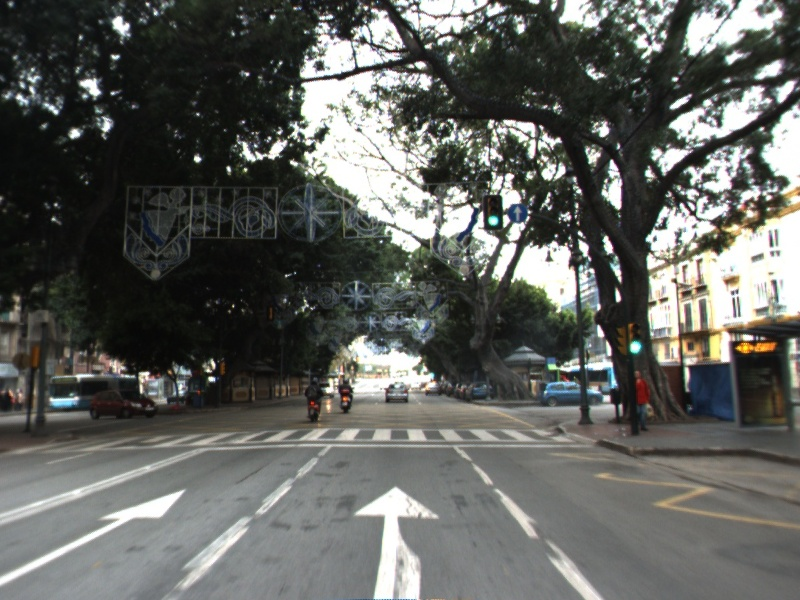STRAIGHT: (1, 485, 190, 585), (348, 482, 444, 600)
